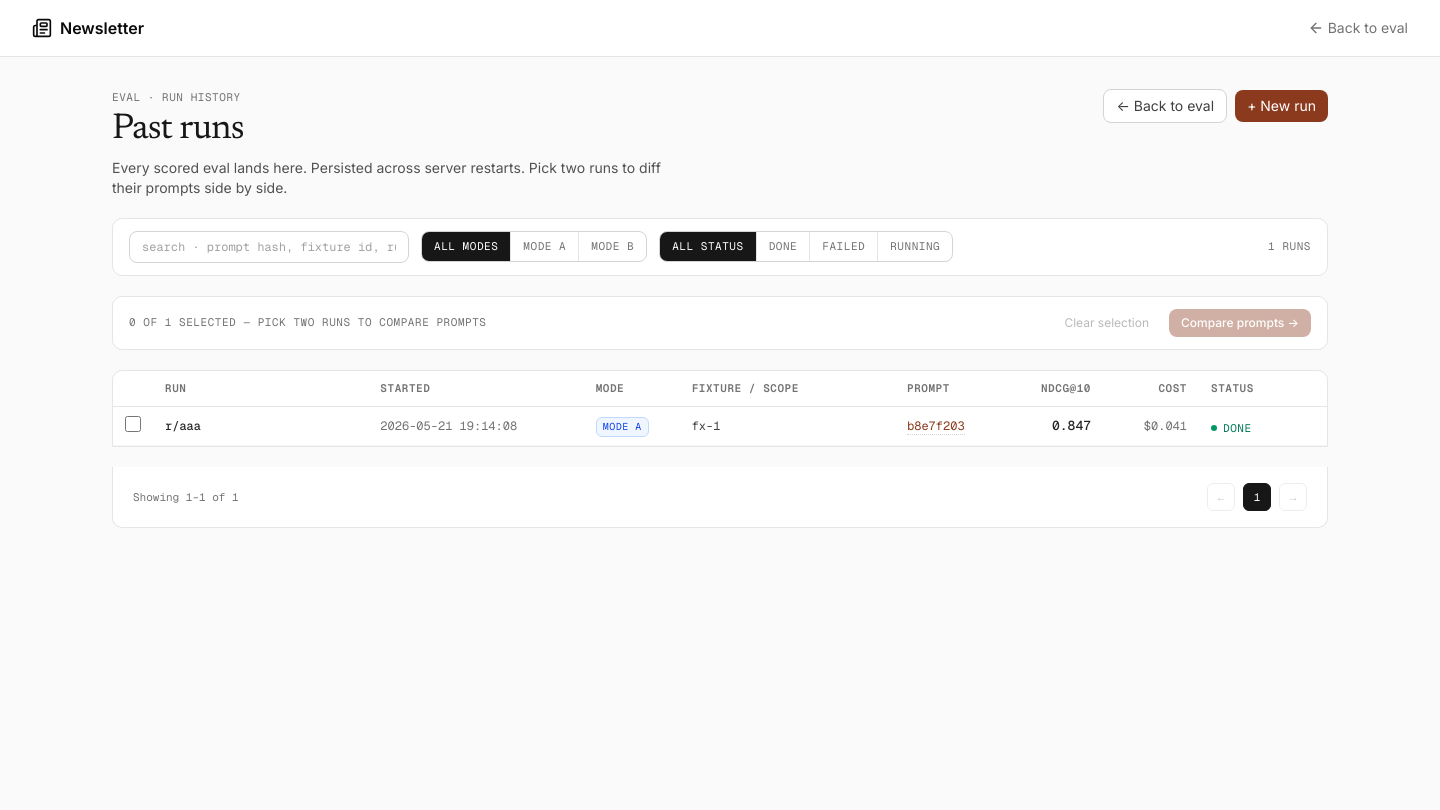
Test case: EvalRunsPage › clicking a run id opens the run detail drawer
Expected: the element with test id "runs-table-section" is shown, [112,370,1328,448]
Click the button "r/aaa".
click(183, 426)  # box [165,418,201,434]
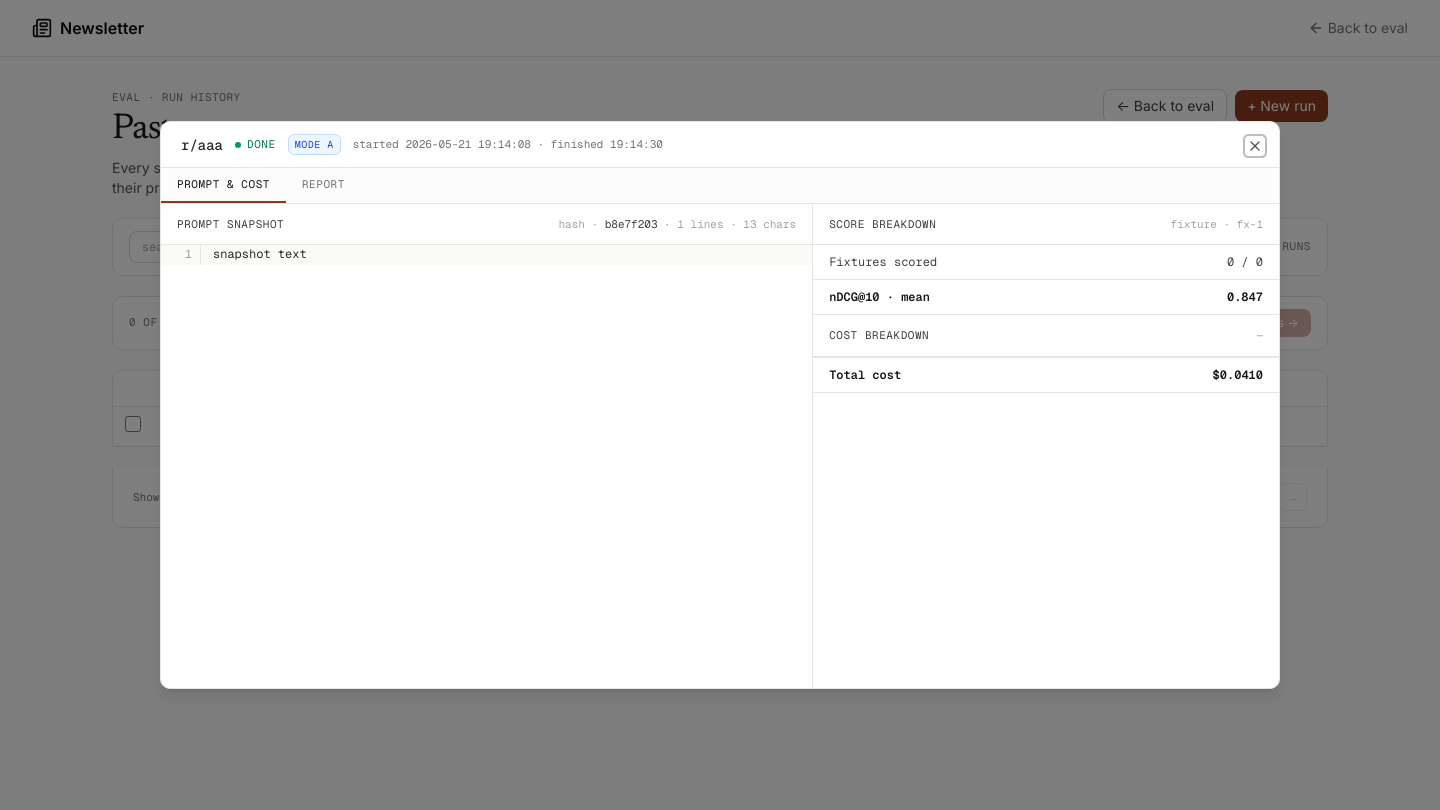
Result: the dialog with test id "run-detail-drawer" is shown at [160,121,1280,689]
